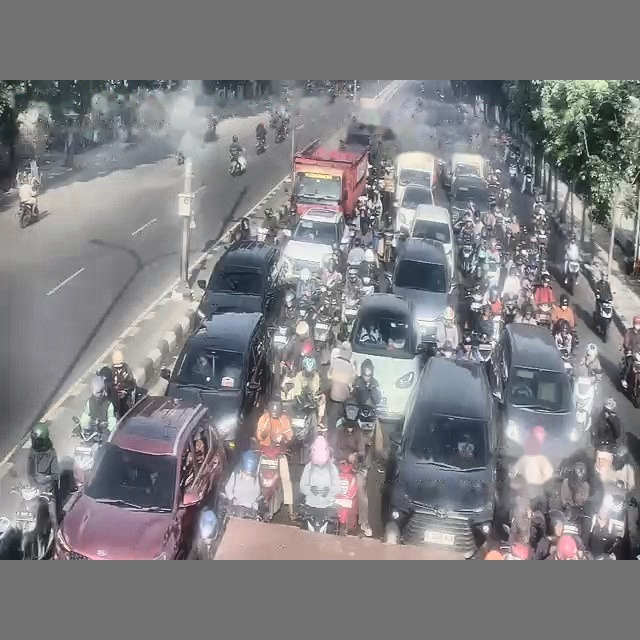Mobil: (55, 397, 226, 559), (385, 357, 499, 554), (162, 312, 269, 445), (491, 323, 589, 463), (350, 293, 422, 421), (387, 238, 456, 342), (198, 240, 281, 318), (282, 208, 348, 282), (410, 205, 455, 273), (449, 176, 489, 223), (394, 184, 433, 232)
Motor: (11, 484, 54, 559), (72, 416, 108, 485), (259, 447, 283, 520), (336, 461, 357, 534), (574, 376, 595, 434), (620, 352, 639, 407), (593, 294, 612, 341), (17, 202, 38, 227), (565, 261, 580, 294), (229, 154, 246, 176), (256, 138, 266, 154)
Truk: (214, 517, 463, 560), (291, 141, 368, 219)
